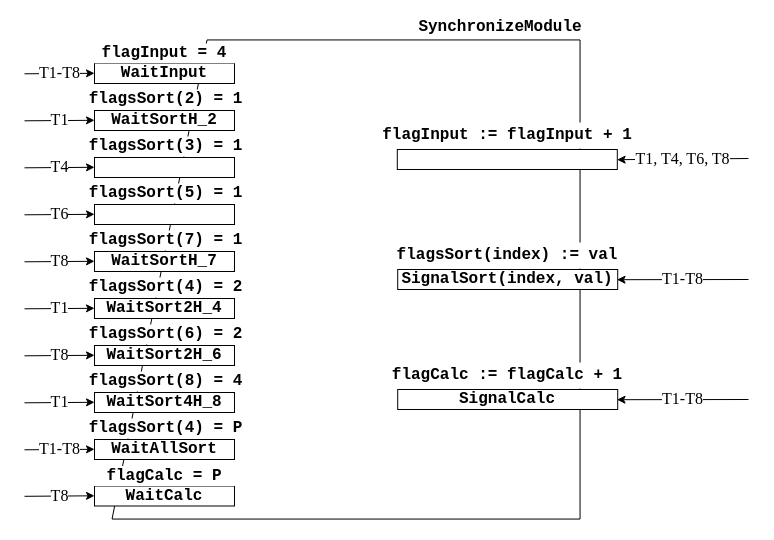
Some shapes in this 774 by 540 pixel diagram are drawn without their labels. Each missing label, with the box of its shape:
SignalInput: (396, 148, 617, 170)
WaitSortH_3: (94, 156, 234, 178)
WaitSortH_5: (94, 204, 234, 224)
